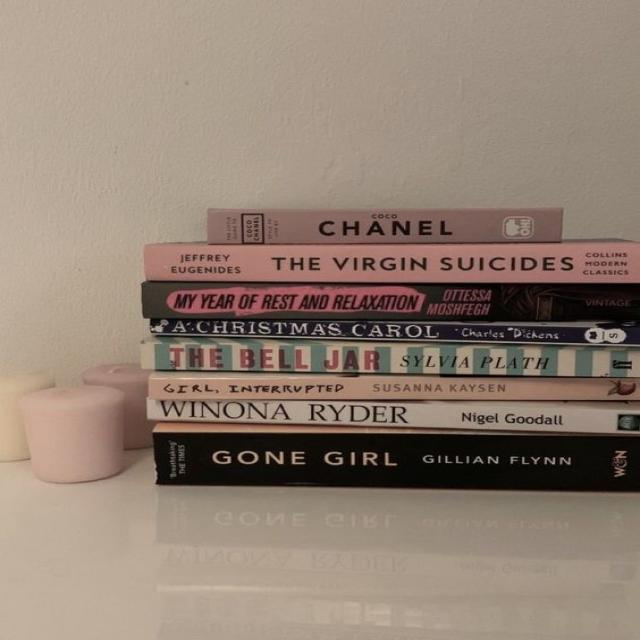book: (153, 424, 639, 491), (151, 329, 639, 375), (142, 281, 639, 323), (145, 243, 639, 283), (148, 397, 639, 432), (150, 373, 639, 401), (207, 208, 562, 244), (150, 320, 639, 346)
candle: (19, 385, 123, 483), (83, 363, 148, 449), (0, 374, 53, 461)
